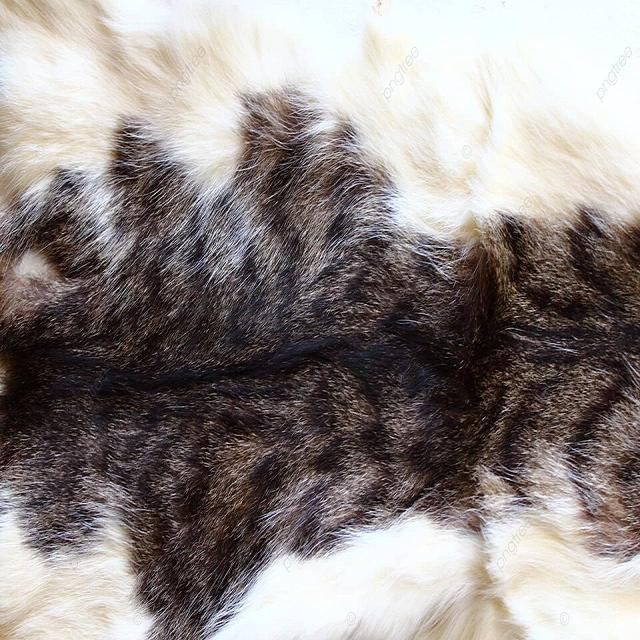Healthy skin: (294, 123, 618, 424), (15, 17, 258, 306), (304, 473, 612, 622), (49, 406, 262, 596)
